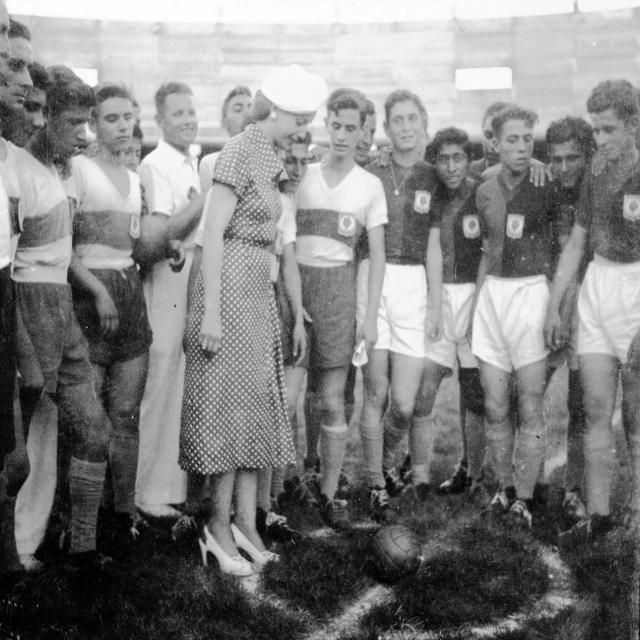body: (173, 58, 332, 579), (180, 107, 315, 557), (57, 84, 174, 570), (7, 75, 115, 576), (462, 100, 581, 530), (278, 87, 391, 537), (538, 75, 640, 546), (292, 91, 396, 519), (215, 112, 318, 544), (352, 84, 449, 522), (124, 76, 206, 547), (395, 126, 487, 518), (525, 119, 599, 524), (0, 6, 20, 601), (196, 82, 254, 224), (467, 101, 540, 187), (371, 103, 448, 172), (0, 62, 52, 148), (1, 21, 38, 140), (104, 100, 158, 179), (459, 128, 498, 176)
